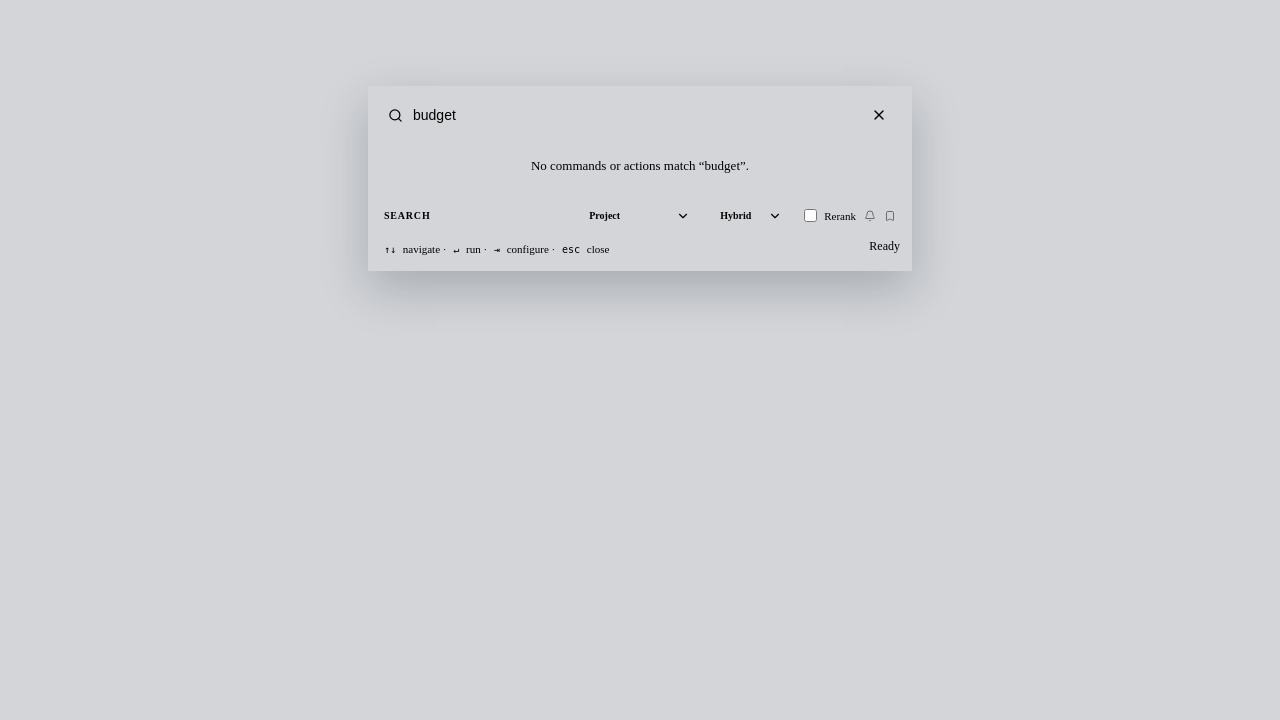
located palette search › selects a named index for free-text search and saves its semantic view
Select "Research passages" in the dropdown with test id "search-index-select" at [639, 216], box [577, 202, 700, 229]
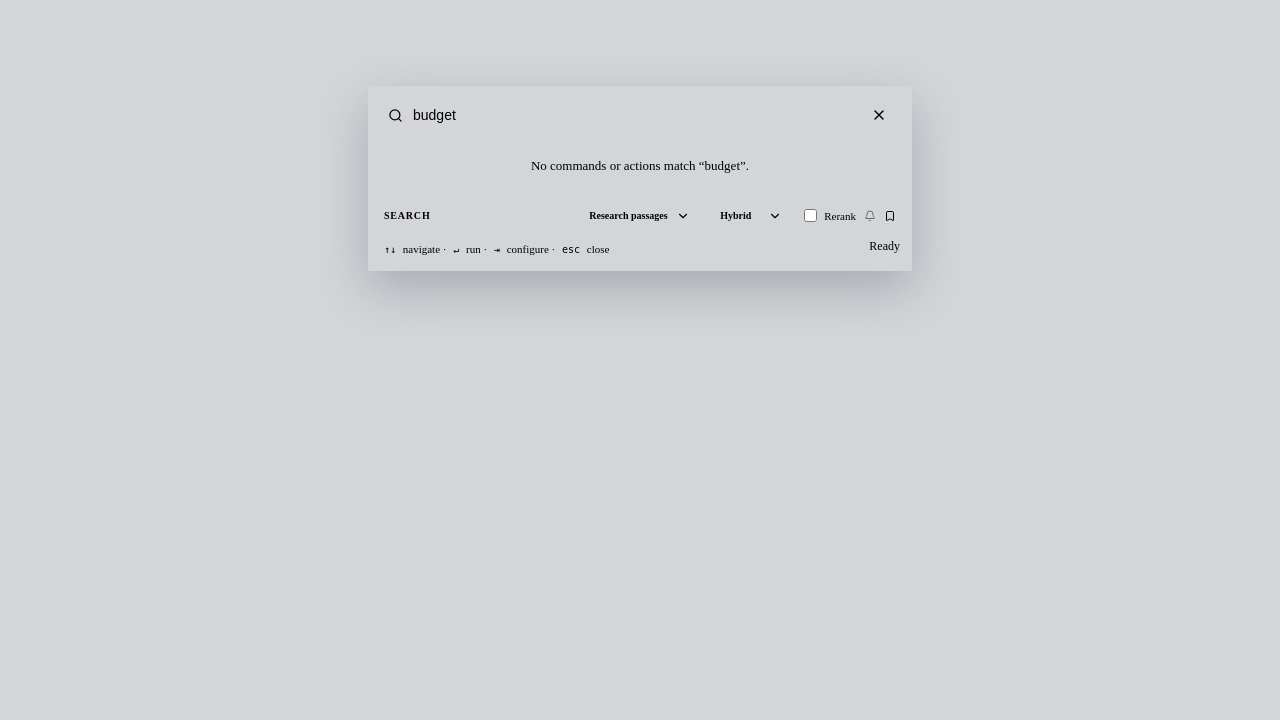
Select "Semantic" in the dropdown with test id "search-mode-select" at [750, 216], box [708, 202, 792, 229]
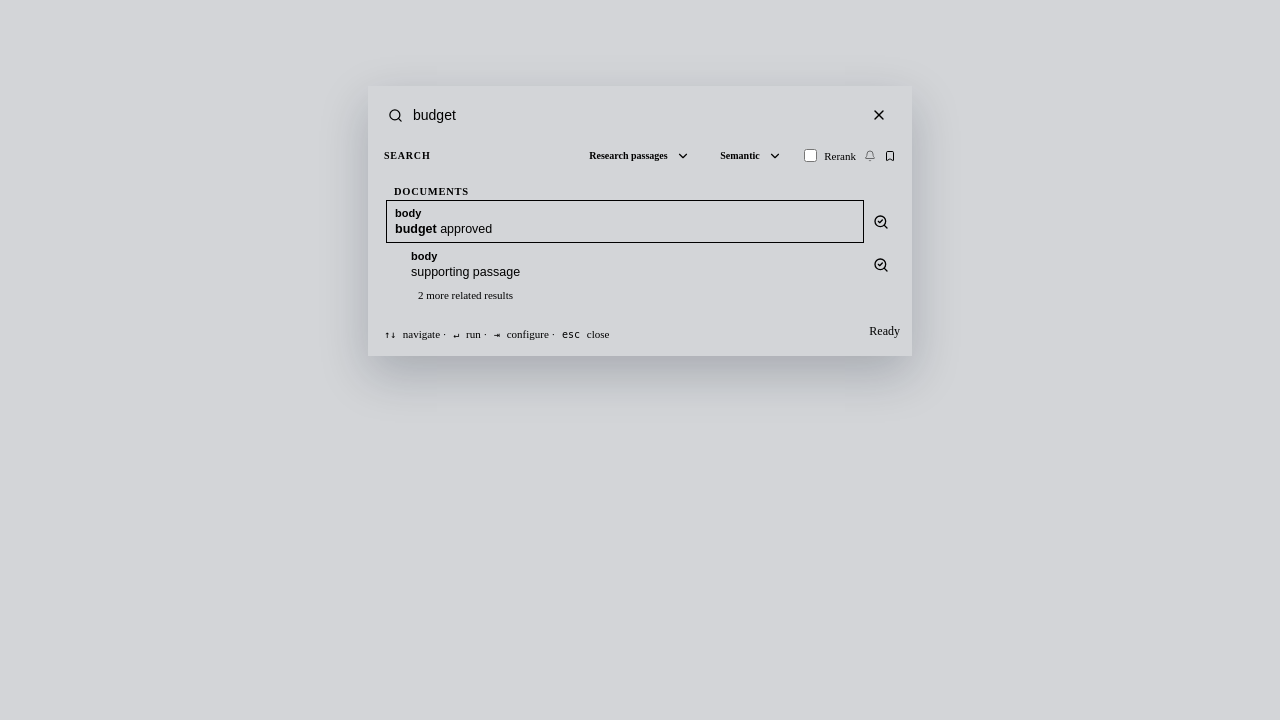
Click the button with test id "save-search-lens-button" at [890, 156], box [884, 150, 896, 162]
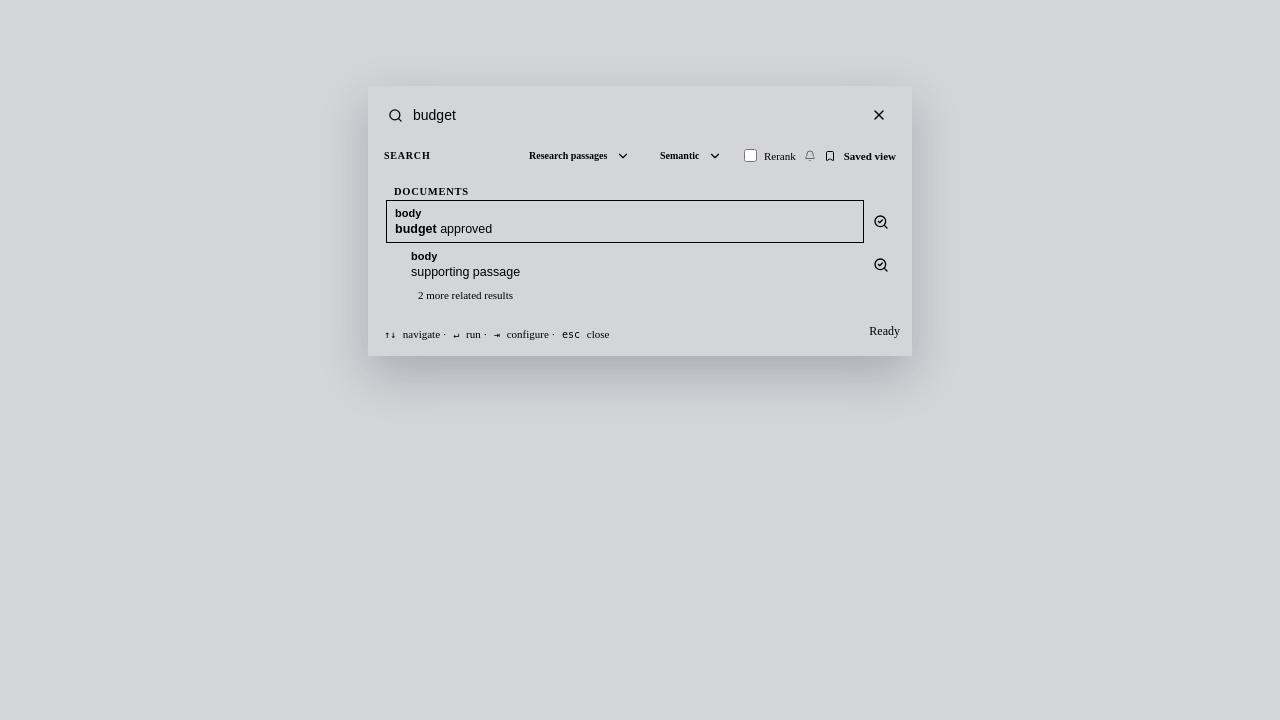
Check: the text with test id "save-search-lens-status" reads "Saved view", box [844, 150, 896, 162]
